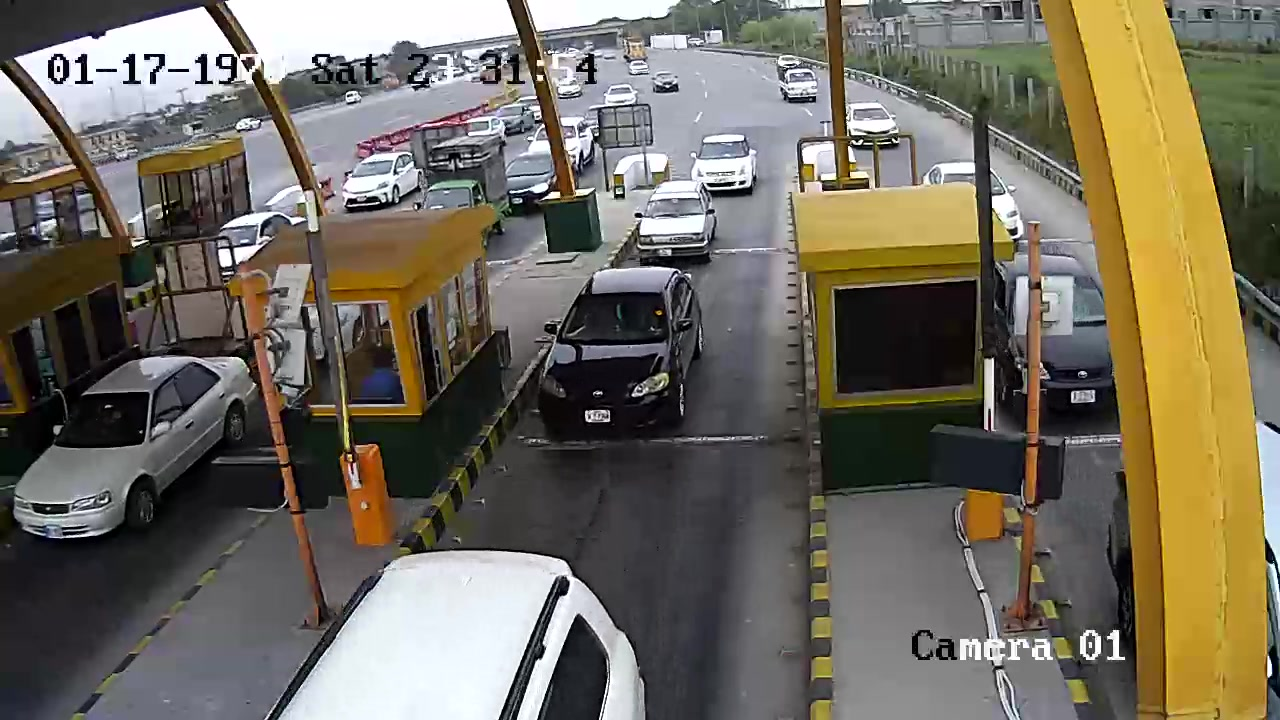F1: (530, 267, 713, 446)
